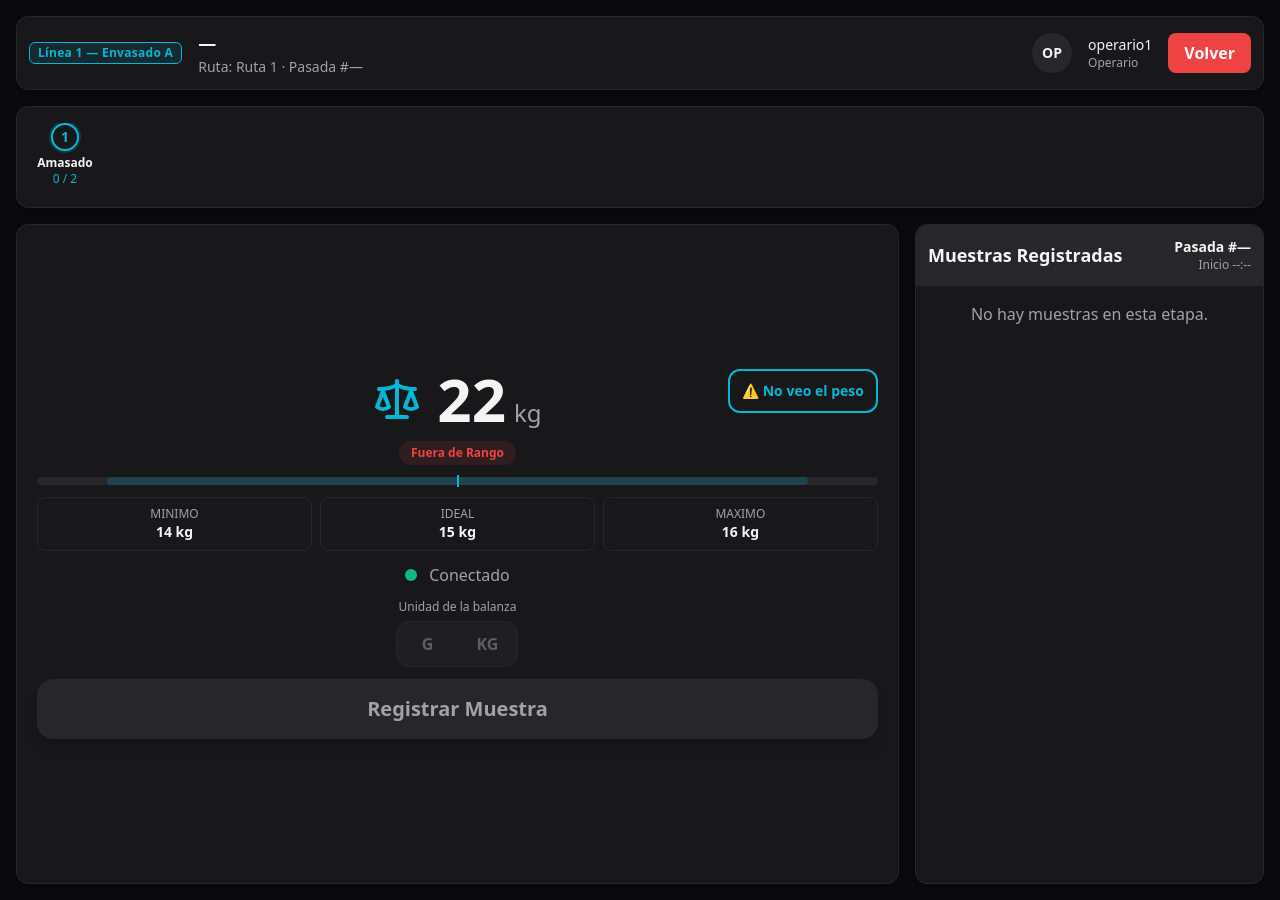
TabletWorkspace › con tolerancia 12,5 el popup muestra "12,5%" y no "20%"
Click the button "Registrar Muestra": [457, 709] box 37,679 -> 878,739
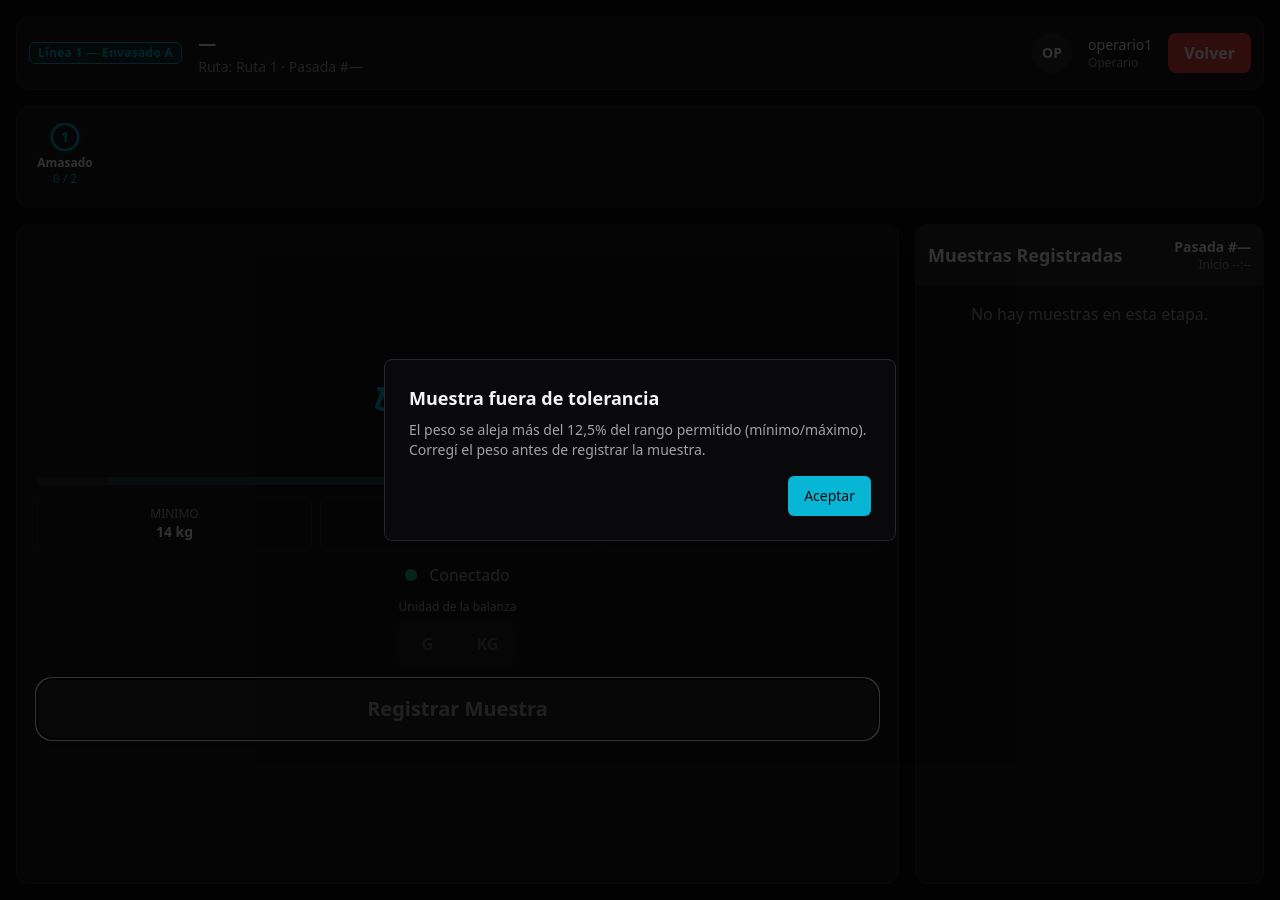
Expected: the text "más del 12,5% del rango permitido" is shown, 409,420 -> 866,459
